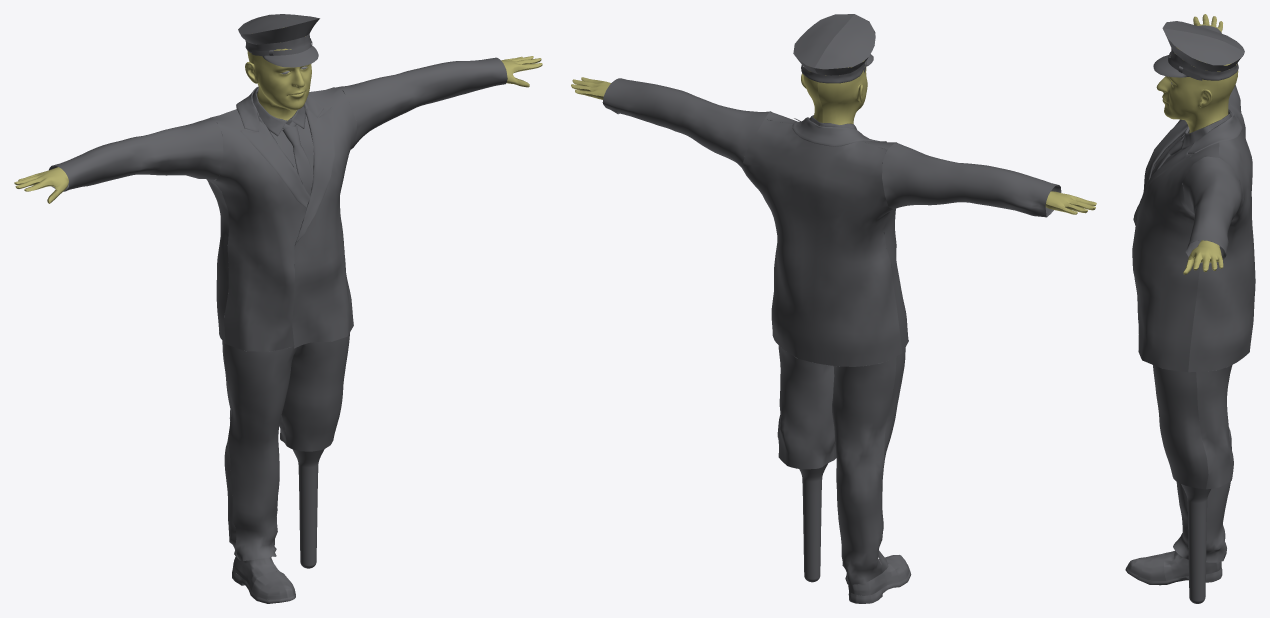
File: Policia_low.fbx
The picture shows the model from 3 angles, left to right: view 1: azimuth 30°, elevation 25°; view 2: azimuth 150°, elevation 25°; view 3: azimuth 270°, elevation 25°; orthographic projection.
Parts seen in each view (by area): view 1: robapoli_low, carapoli_low, patapalopoli_low, sabatespoli_low, manspoli_low; view 2: robapoli_low, carapoli_low, patapalopoli_low, sabatespoli_low, manspoli_low; view 3: robapoli_low, carapoli_low, patapalopoli_low, sabatespoli_low, manspoli_low.
Part boxes in pixels (bbox=[...]): robapoli_low: bbox=[49, 14, 507, 560]; carapoli_low: bbox=[245, 33, 311, 120]; patapalopoli_low: bbox=[284, 428, 324, 568]; sabatespoli_low: bbox=[232, 545, 295, 603]; manspoli_low: bbox=[14, 56, 542, 203]; robapoli_low: bbox=[602, 14, 1061, 584]; carapoli_low: bbox=[801, 60, 867, 124]; patapalopoli_low: bbox=[799, 443, 835, 582]; sabatespoli_low: bbox=[848, 555, 911, 603]; manspoli_low: bbox=[571, 77, 1096, 214]; robapoli_low: bbox=[1132, 21, 1255, 562]; carapoli_low: bbox=[1156, 47, 1238, 133]; patapalopoli_low: bbox=[1181, 484, 1210, 603]; sabatespoli_low: bbox=[1125, 545, 1222, 585]; manspoli_low: bbox=[1183, 14, 1223, 274].
Size of the model in its own units: 181 by 186 by 38.91.
